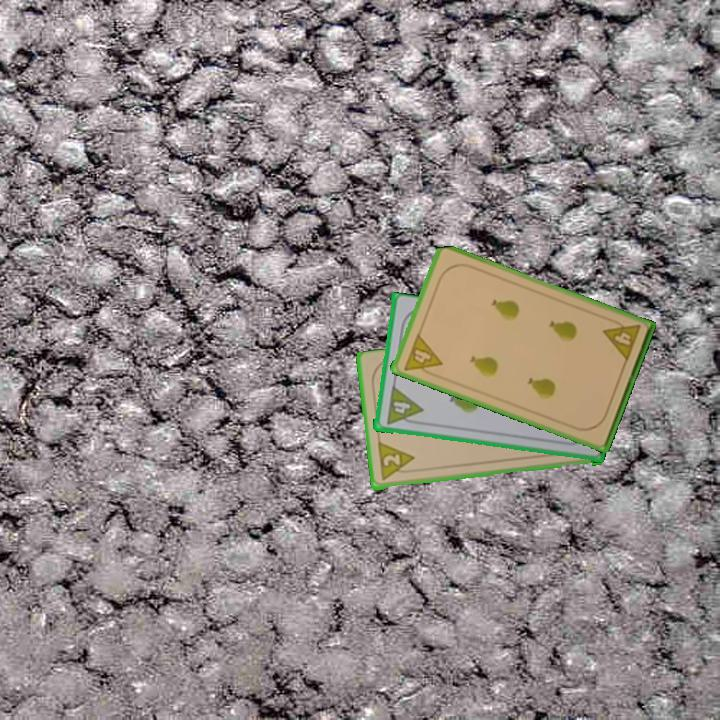2p: (374, 440, 418, 484)
4p: (400, 330, 444, 380), (600, 315, 643, 364), (382, 384, 424, 428)
